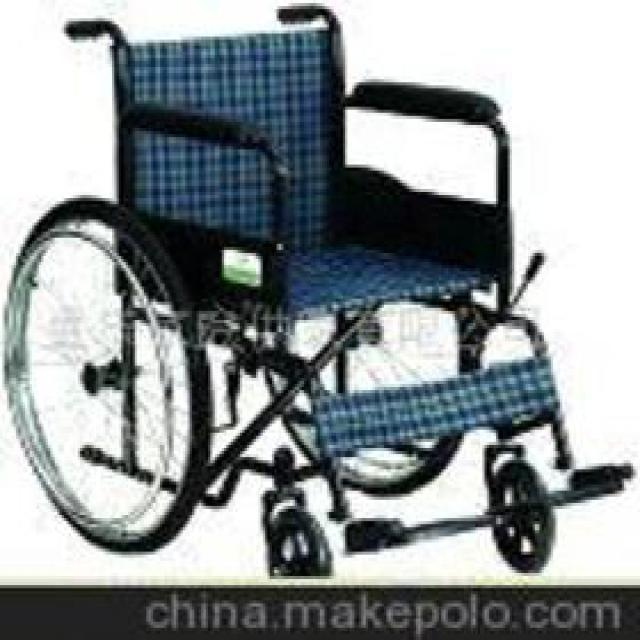wheelchair: (5, 3, 638, 579)
